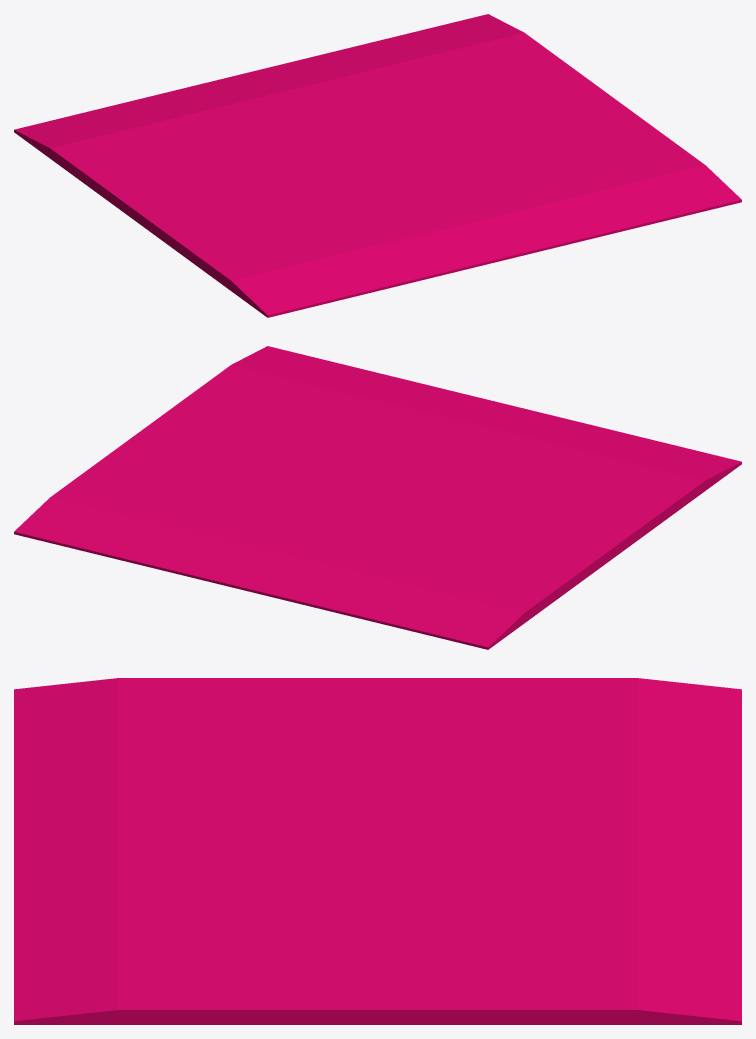
The model's file is Factory_Floor_Lod0.fbx.
3 renders of one model, top to bottom at view 1: azimuth 30°, elevation 25°; view 2: azimuth 150°, elevation 25°; view 3: azimuth 270°, elevation 25°, orthographic. The views are drawn at different scales.
Visible parts, largest first — view 1: Factory_Floor_Lod0; view 2: Factory_Floor_Lod0; view 3: Factory_Floor_Lod0.
Part boxes in pixels (x1,y1,x2,y2): Factory_Floor_Lod0: [14, 14, 741, 317]; Factory_Floor_Lod0: [14, 346, 741, 649]; Factory_Floor_Lod0: [14, 678, 741, 1024].
Bounding box in the file's own units: 600 × 12.6 × 556.
